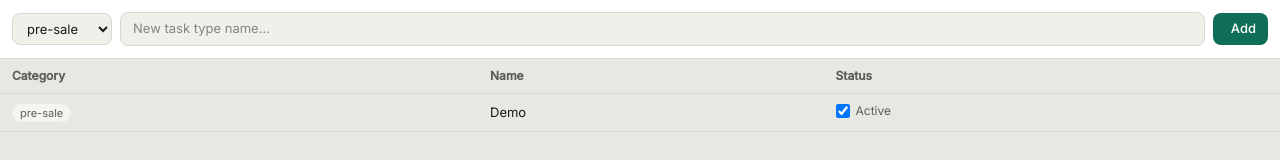
it: TaskTypesPanel › renames a task type inline, updating it in place without refetching the list
Click the button "Demo" at (508, 112), box [490,102,526,122]
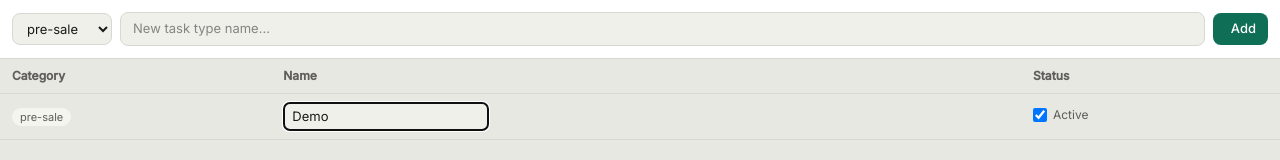
Replace the text in the field showing "Demo" with "Demo Call" at (386, 116), box [283,102,489,131]
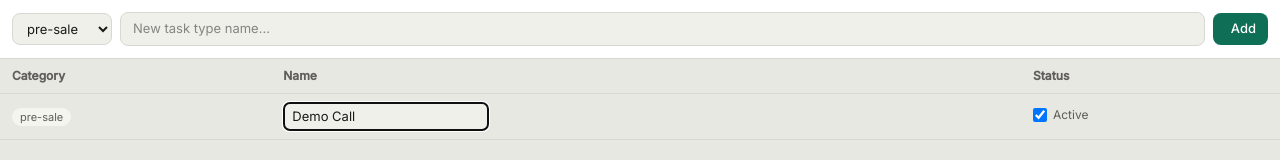
Leave the field showing "Demo Call", box [283,102,489,131]
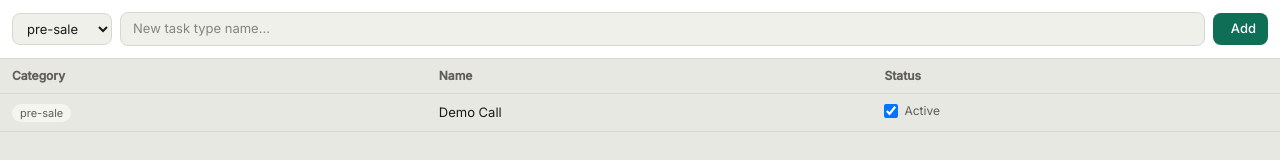
Result: the button "Demo Call" is shown at [439,102,502,122]
